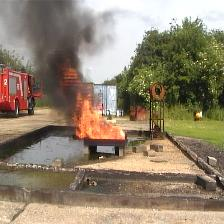fire: (72, 92, 126, 140)
